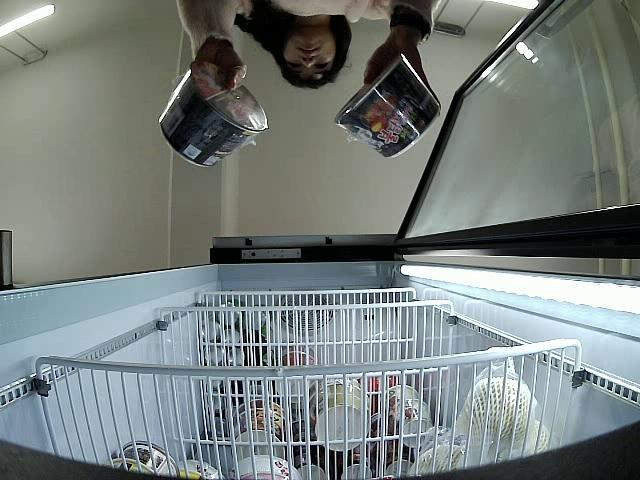07_buldak_L: (158, 56, 264, 170), (335, 50, 440, 162)
